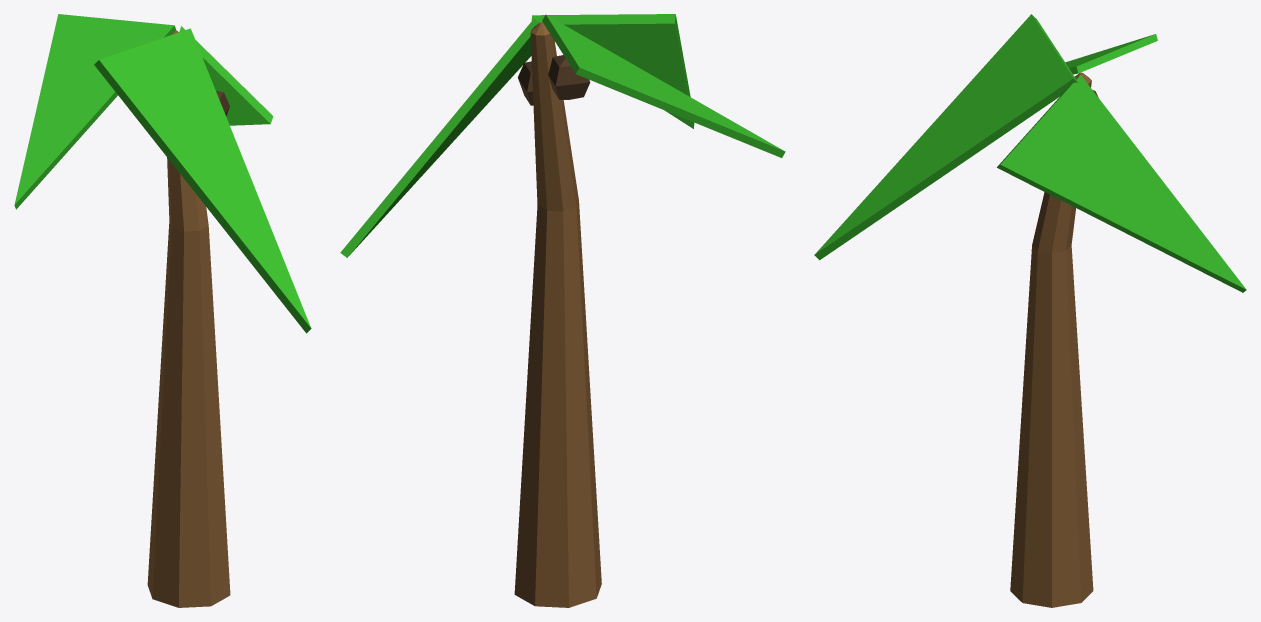
The model's file is palmtree.fbx.
The picture shows the model from 3 angles, left to right: view 1: azimuth 30°, elevation 25°; view 2: azimuth 150°, elevation 25°; view 3: azimuth 270°, elevation 25°; orthographic projection. The views are drawn at different scales.
Visible parts, largest first — view 1: Cube.003; view 2: Cube.003; view 3: Cube.003.
Part boxes in pixels (x1,y1,x2,y2): Cube.003: (14,14,311,607); Cube.003: (340,14,785,607); Cube.003: (814,14,1246,607).
Bounding box in the file's own units: 5.96 × 10.72 × 7.92.
